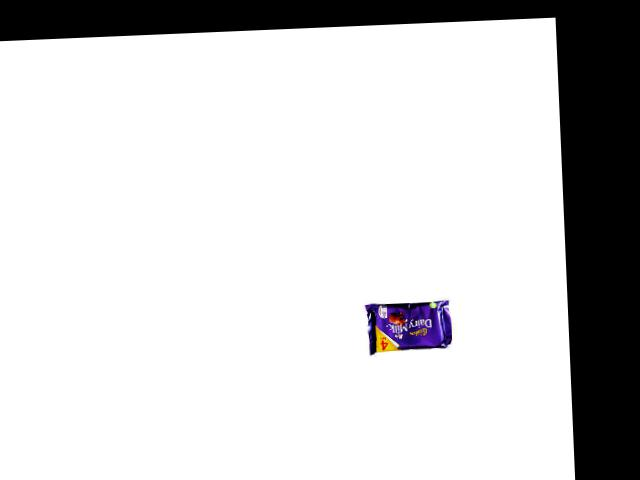chocolate: (355, 293, 455, 354)
